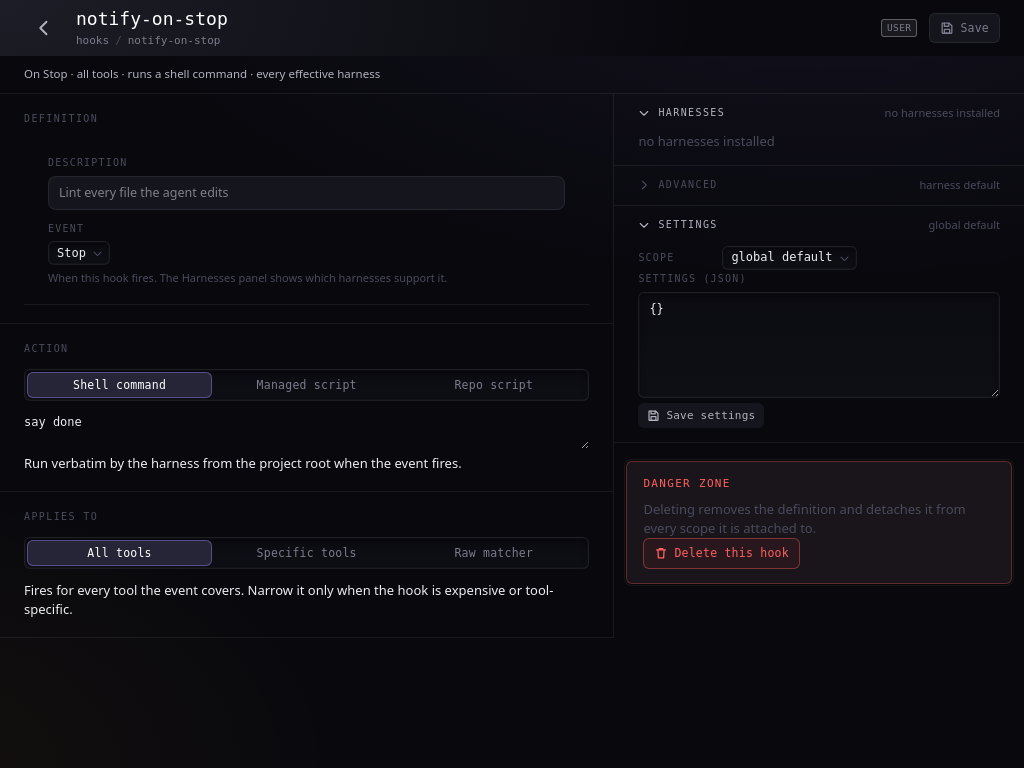
Test case: HookEditor — delete flow › names every scope the delete will detach from before confirming
Click the button "Delete this hook" at (722, 553), box [643,538,800,569]
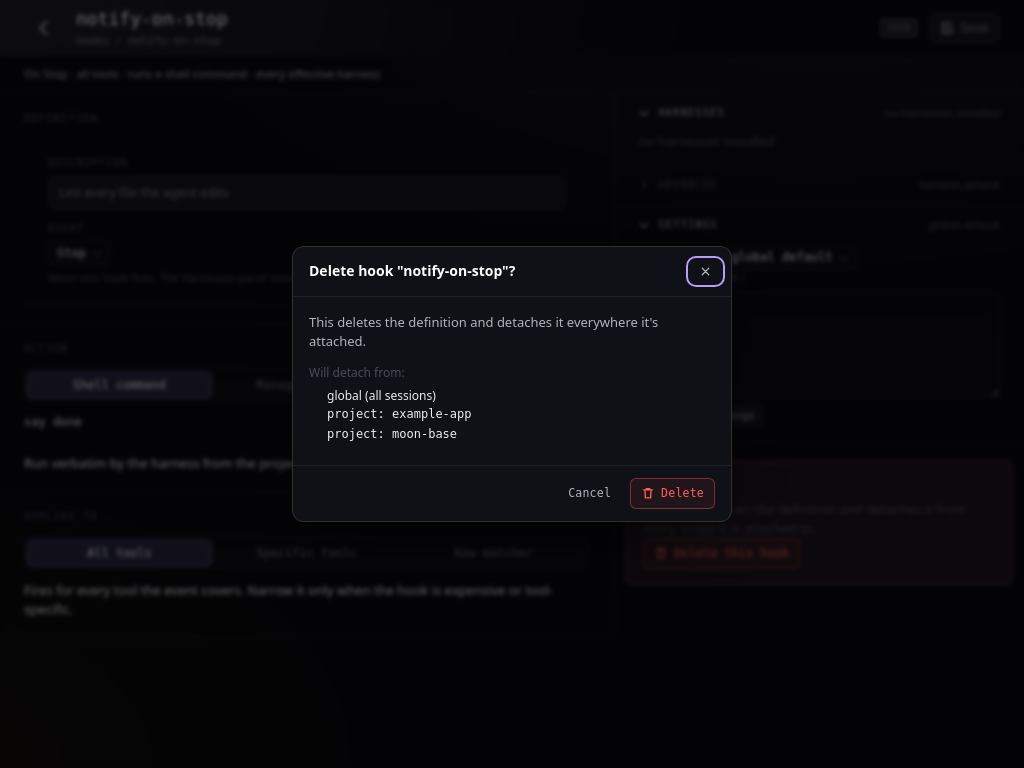
Now the dialog shows "Delete hook \"notify-on-stop\"?", box [309,261,515,280]
Now the dialog shows "Will detach from:", box [309,364,405,380]
Now the dialog shows "global (all sessions)", box [327,387,436,404]
